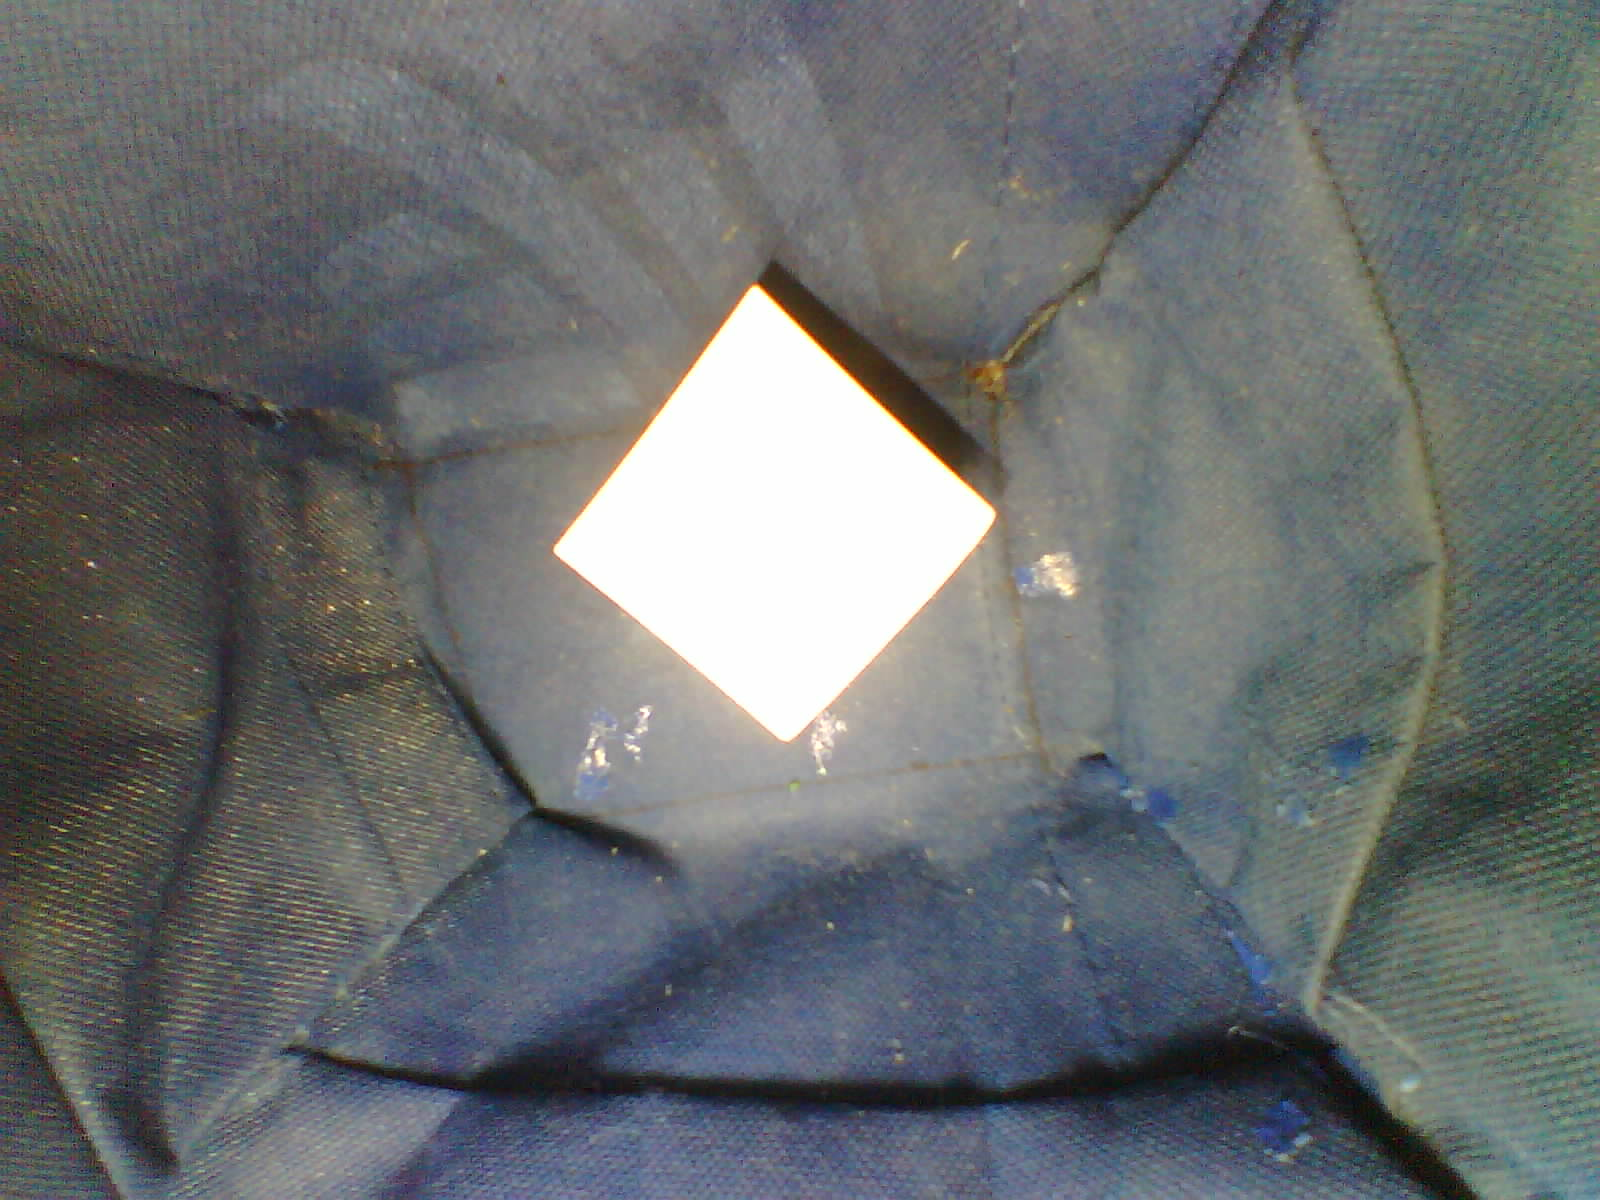cube-hard: (527, 271, 1014, 758)
